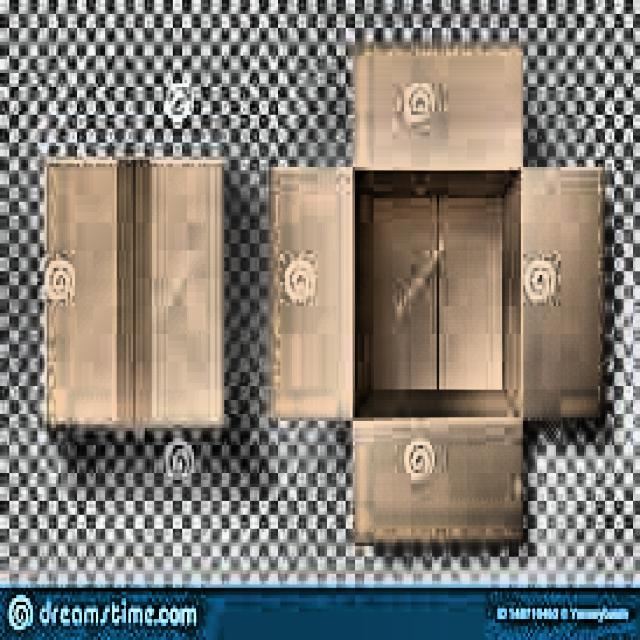cardboard: (268, 38, 607, 554), (42, 159, 229, 425)
